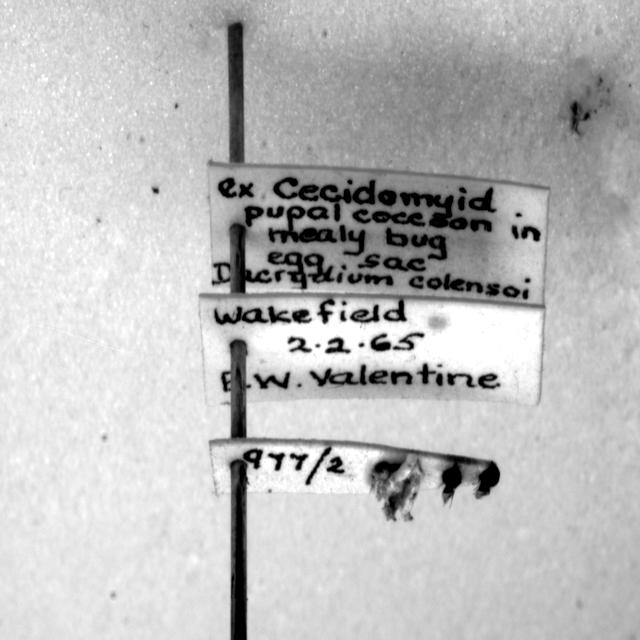hand_label: (209, 161, 549, 306), (200, 294, 545, 405)
